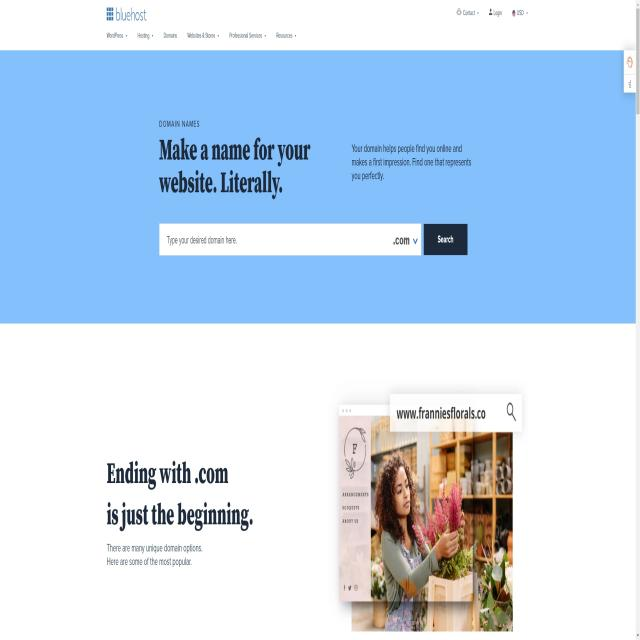menu-bar: (449, 9, 536, 20)
search: (158, 223, 477, 257)
tab-bar: (104, 29, 300, 46)
